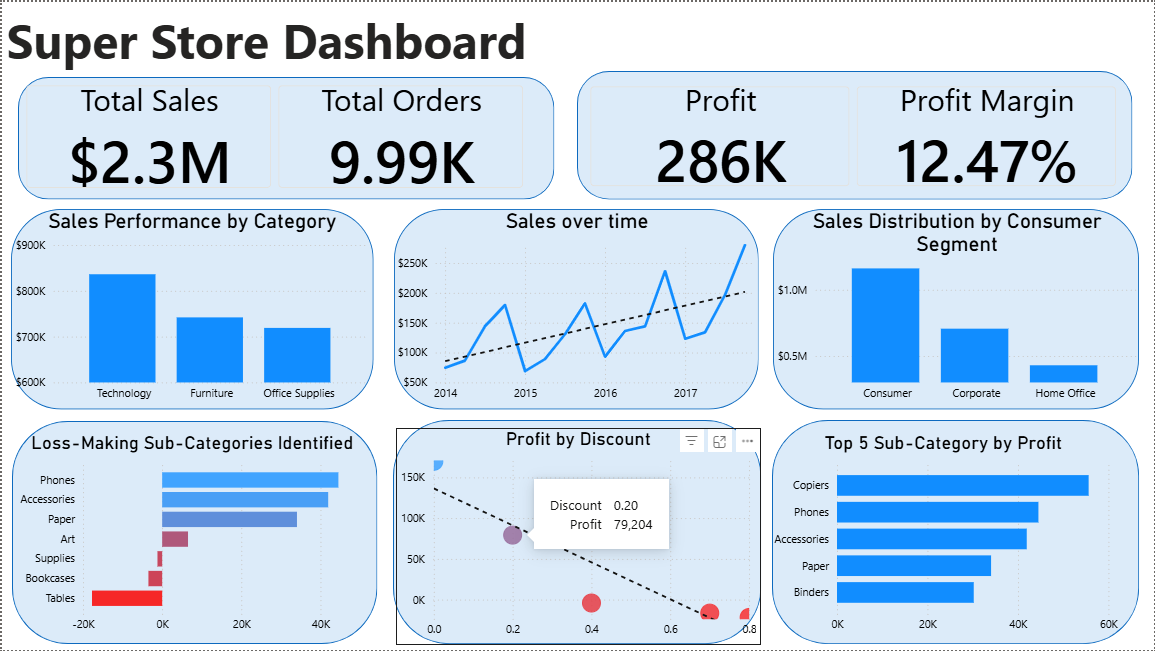

The dashboard page shown, as its layout file describes it:
{"tool":"powerbi","page":{"name":"Super store dashboard","canvas":[1280,720],"ordinal":0},"visuals":[{"type":"shape","box":[10,230.2,402.9,222.7],"z":0,"group":"g1"},{"type":"shape","box":[855.8,465.4,407.9,249],"z":1000,"group":"g1"},{"type":"shape","box":[434.2,465.4,409.1,249],"z":2000,"group":"g1"},{"type":"shape","box":[11.5,466.1,405.9,247.8],"z":3000,"group":"g1"},{"type":"shape","box":[857.1,230.2,406.6,222.7],"z":4000,"group":"g1"},{"type":"shape","box":[435.4,230.2,405.4,222.7],"z":6000,"group":"g1"},{"type":"shape","box":[17.4,84.2,595.9,136.1],"z":8000,"group":"g1"},{"type":"shape","box":[638.6,77.1,617.1,142.9],"z":9000,"group":"g1"},{"type":"group","id":"g1","title":"Group 1","box":[10,77.1,1253.7,637.3],"z":9500},{"type":"columnChart","title":"Sales Performance by Category","fields":{"Category":["Sheet2.Category"],"Y":["_measures.Total Sales"]},"box":[10,230.2,402.9,222.7],"z":10000},{"type":"lineChart","title":"Sales over time","fields":{"Category":["Sheet2.Order Date.Variation.Date Hierarchy.Year","Sheet2.Order Date.Variation.Date Hierarchy.Quarter","Sheet2.Order Date.Variation.Date Hierarchy.Month","Sheet2.Order Date.Variation.Date Hierarchy.Day"],"Y":["_measures.Total Sales"]},"box":[434.2,230.2,409.1,222.7],"z":11000},{"type":"textbox","box":[0,0,640,82.9],"z":12000},{"type":"cardVisual","fields":{"Data":["_measures.Total Sales","_measures.Total Orders"]},"box":[10,75,586.2,148.8],"z":13000},{"type":"cardVisual","fields":{"Data":["_measures.Profit","_measures.Profit Margin"]},"box":[637.1,77.1,618.6,145.7],"z":14000},{"type":"barChart","title":"Loss-Making Sub-Categories Identified","fields":{"Category":["Sheet2.Sub-Category"],"Y":["_measures.Profit"]},"box":[10,478,402.9,231.5],"z":15000},{"type":"clusteredBarChart","title":"Top 5 Sub-Category by Profit","fields":{"Category":["Sheet2.Sub-Category"],"Y":["_measures.Profit"]},"box":[848.3,478,396.6,231.5],"z":16000},{"type":"scatterChart","title":"Profit by Discount","fields":{"Y":["_measures.Profit"],"X":["Sheet2.Discount"]},"box":[437.9,473,405.4,241.5],"z":17000},{"type":"columnChart","title":"Sales Distribution by Consumer Segment","fields":{"Y":["_measures.Total Sales"],"Category":["Sheet2.Segment"]},"box":[857.1,230.2,409.1,222.7],"z":18000}]}

Visuals, with their boxes in screenshot pixels (x1, y1, x2, y2), scaled from the page's 1280x720 canvas onto the 1155x651 screenshot:
shape: locate(9, 208, 373, 409)
shape: locate(772, 421, 1140, 646)
shape: locate(392, 421, 761, 646)
shape: locate(10, 421, 377, 645)
shape: locate(773, 208, 1140, 409)
shape: locate(393, 208, 759, 409)
shape: locate(16, 76, 553, 199)
shape: locate(576, 70, 1133, 199)
"Group 1" group: locate(9, 70, 1140, 646)
"Sales Performance by Category" columnChart: locate(9, 208, 373, 409)
"Sales over time" lineChart: locate(392, 208, 761, 409)
textbox: locate(0, 0, 578, 75)
cardVisual - _measures.Total Sales x _measures.Total Orders: locate(9, 68, 538, 202)
cardVisual - _measures.Profit x _measures.Profit Margin: locate(575, 70, 1133, 201)
"Loss-Making Sub-Categories Identified" barChart: locate(9, 432, 373, 642)
"Top 5 Sub-Category by Profit" clusteredBarChart: locate(765, 432, 1123, 642)
"Profit by Discount" scatterChart: locate(395, 428, 761, 646)
"Sales Distribution by Consumer Segment" columnChart: locate(773, 208, 1143, 409)
